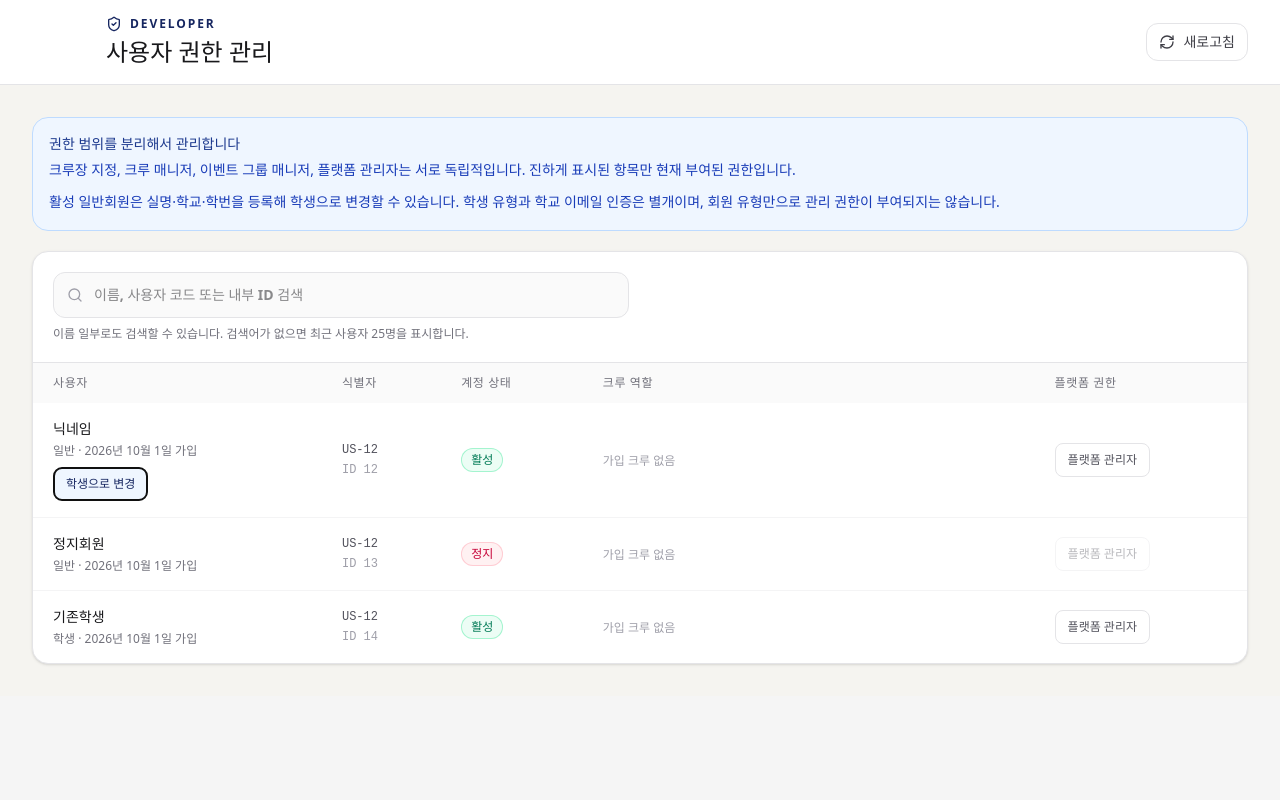
it: developer student conversion › contains keyboard focus and restores the opener after cancelling with Escape
Click the button "학생으로 변경". click: {"x": 101, "y": 484}
box: 53,467 -> 148,501
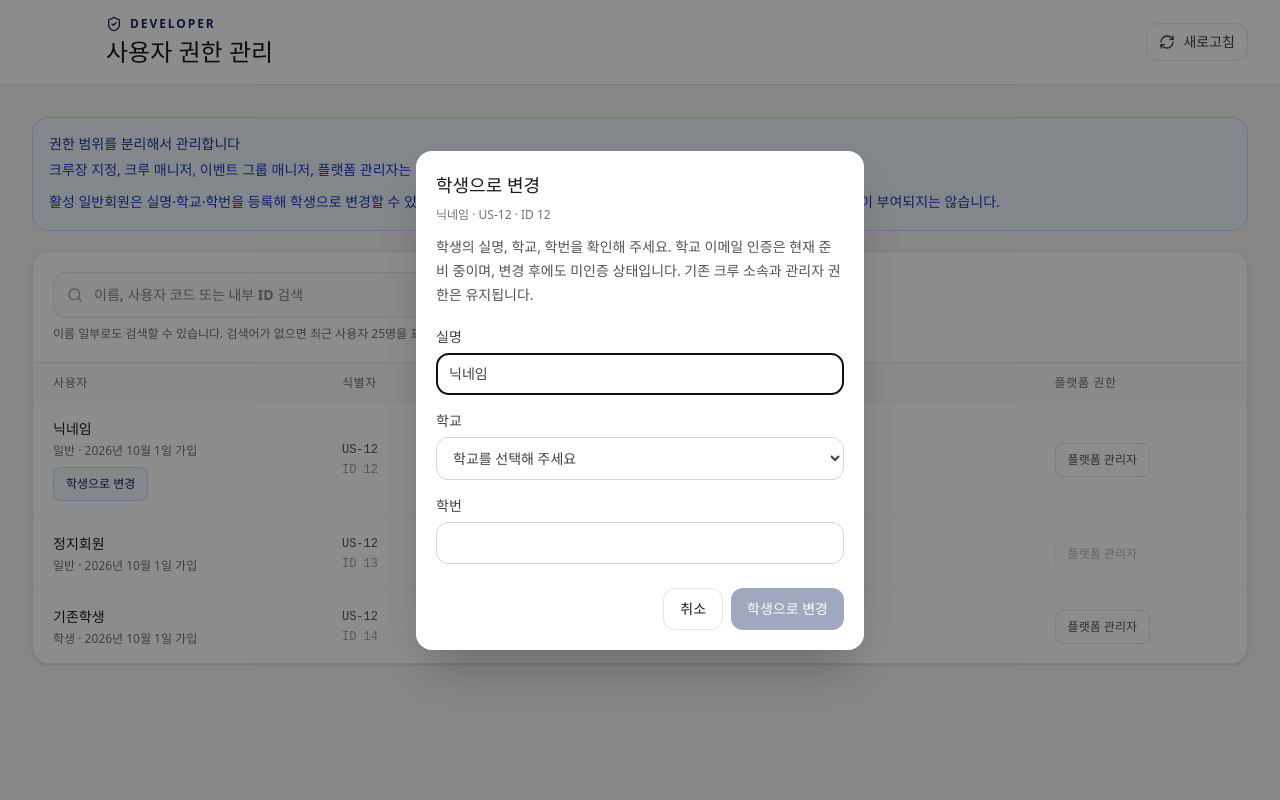
Press Tab in the field labelled "실명", box 436,352 -> 844,394
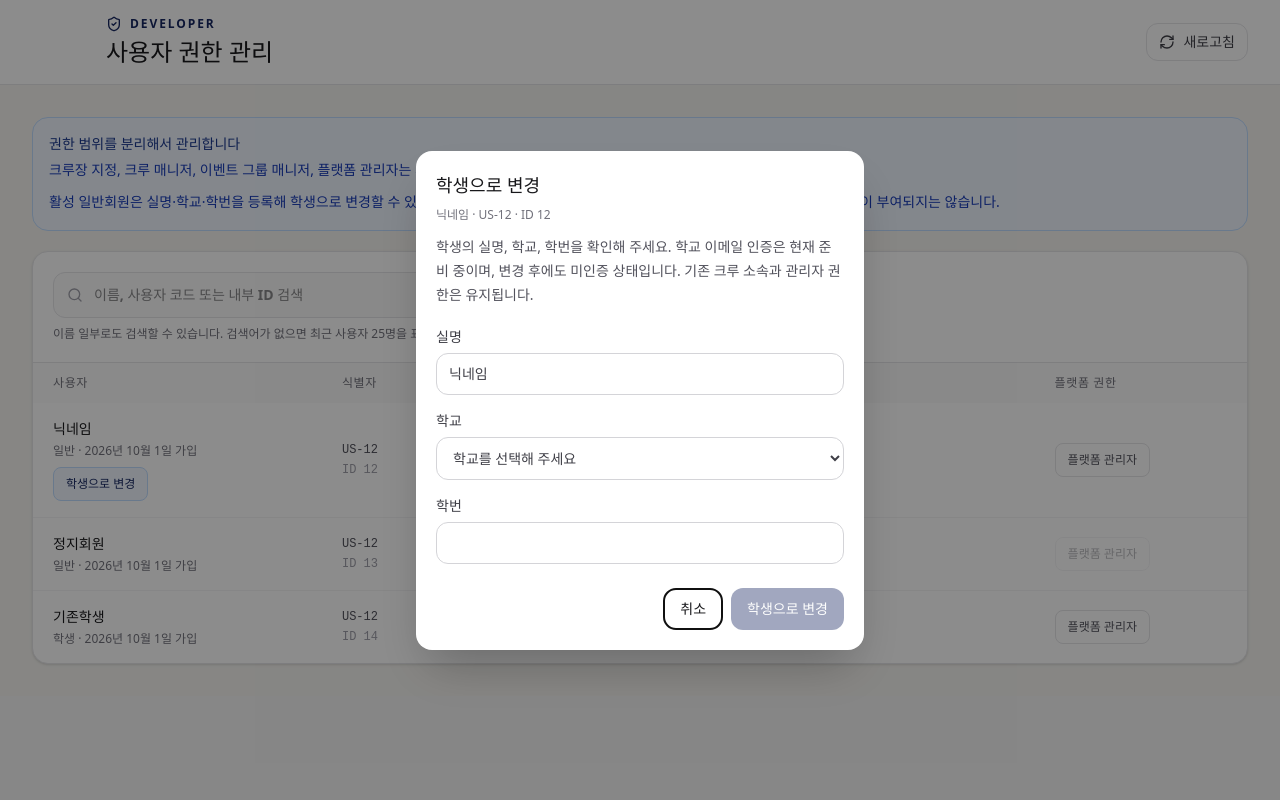
Press Tab in the button "취소", box 663,588 -> 723,630
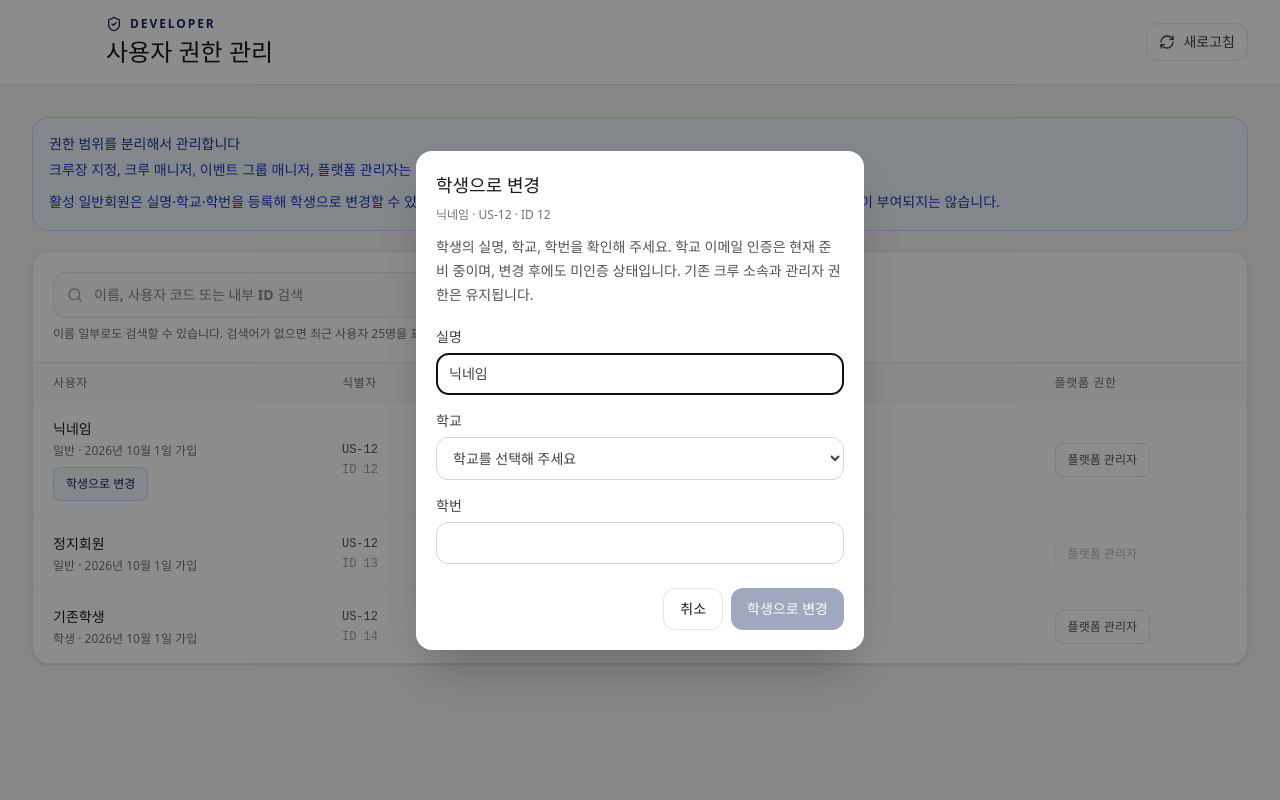
Press Escape in the field labelled "실명", box 436,352 -> 844,394
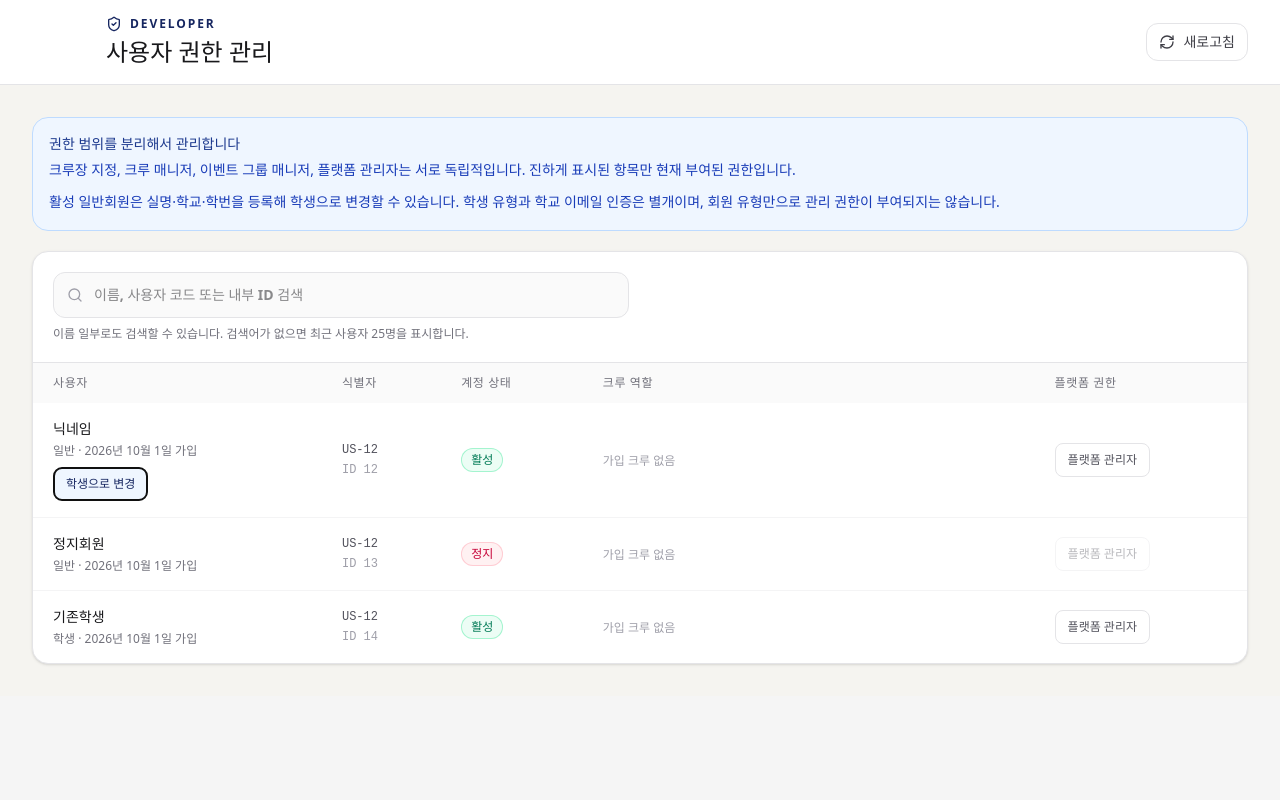
Expected: the button "학생으로 변경" is shown, 53,467 -> 148,501
Expected: the dialog is gone
